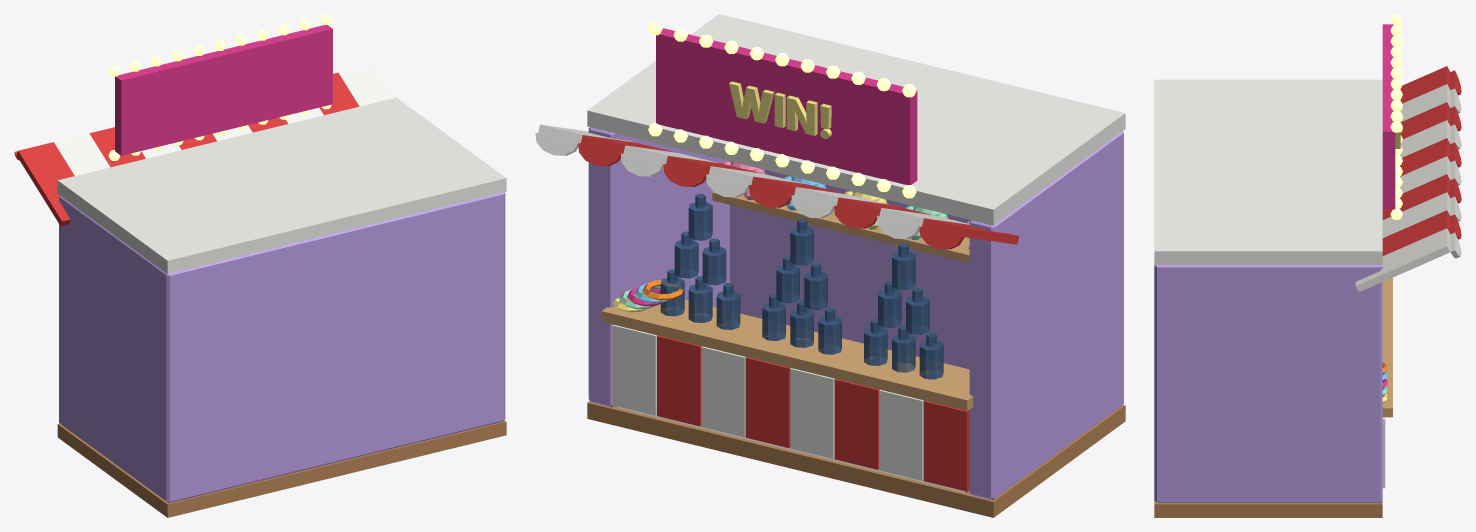
File: GameStall.fbx
3 renders of one model, left to right at view 1: azimuth 30°, elevation 25°; view 2: azimuth 150°, elevation 25°; view 3: azimuth 270°, elevation 25°, orthographic. The views are drawn at different scales.
Parts seen in each view (by area): view 1: GameStall_Lilac, GameStall_White, GameStall_HotPink, GameStall_Plank, GameStall_Red, GameStall_NeonYellow; view 2: GameStall_Lilac, GameStall_White, GameStall_HotPink, GameStall_Red, GameStall_GlassDark, GameStall_WoodLight, GameStall_Plank, GameStall_NeonYellow, GameStall_Lemon; view 3: GameStall_Lilac, GameStall_White, GameStall_Red, GameStall_Plank, GameStall_HotPink, GameStall_NeonYellow, GameStall_WoodLight.
Part boxes in pixels (bbox=[...]): GameStall_Lilac: bbox=[59, 192, 505, 503]; GameStall_White: bbox=[54, 64, 506, 273]; GameStall_HotPink: bbox=[115, 25, 332, 155]; GameStall_Plank: bbox=[57, 420, 506, 517]; GameStall_Red: bbox=[14, 72, 359, 225]; GameStall_NeonYellow: bbox=[108, 14, 332, 160]; GameStall_Lilac: bbox=[588, 127, 1123, 500]; GameStall_White: bbox=[535, 14, 1125, 492]; GameStall_HotPink: bbox=[627, 28, 917, 306]; GameStall_Red: bbox=[578, 135, 1019, 491]; GameStall_GlassDark: bbox=[660, 194, 943, 379]; GameStall_WoodLight: bbox=[601, 192, 973, 410]; GameStall_Plank: bbox=[587, 401, 1125, 517]; GameStall_NeonYellow: bbox=[648, 22, 916, 198]; GameStall_Lemon: bbox=[612, 81, 886, 312]; GameStall_Lilac: bbox=[1154, 265, 1382, 502]; GameStall_White: bbox=[1154, 79, 1461, 488]; GameStall_Red: bbox=[1382, 66, 1461, 255]; GameStall_Plank: bbox=[1154, 501, 1382, 517]; GameStall_HotPink: bbox=[1382, 24, 1395, 387]; GameStall_NeonYellow: bbox=[1390, 14, 1402, 219]; GameStall_WoodLight: bbox=[1382, 277, 1392, 417].
Bounding box in the file's own units: 16.8 × 15.85 × 12.11.
